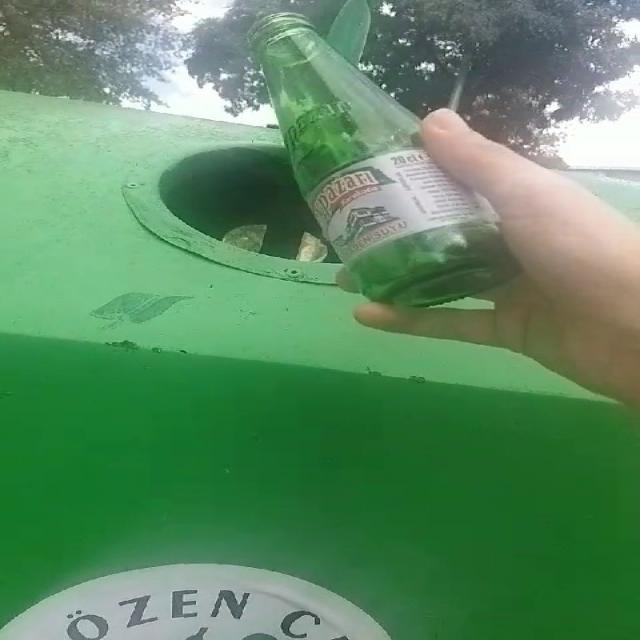glass: (248, 12, 517, 306)
